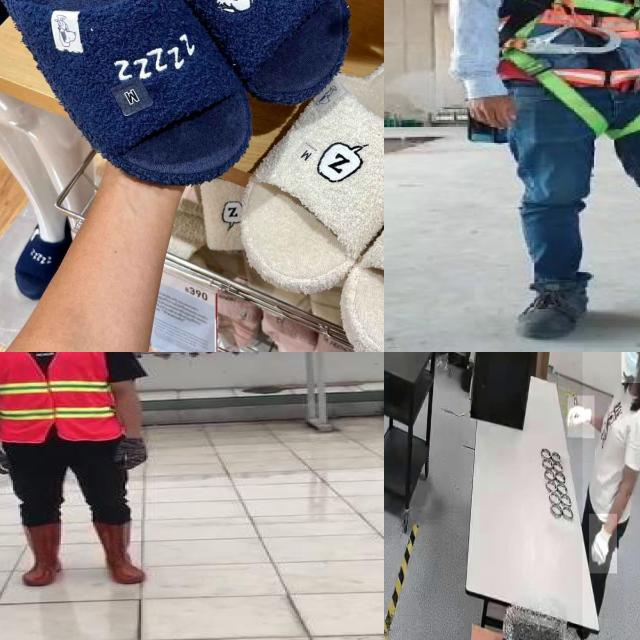Sandals: (0, 0, 374, 208), (213, 0, 384, 352)
boots: (91, 522, 148, 586), (16, 523, 70, 585)
face_mask: (621, 352, 640, 383)
hand_glove: (589, 514, 617, 574), (114, 439, 150, 470), (568, 396, 594, 438), (0, 448, 13, 476)
hand_noglove: (459, 86, 522, 134)
person: (441, 0, 640, 351), (0, 352, 167, 588), (582, 352, 640, 640)
shoes: (509, 267, 605, 345), (562, 623, 591, 640)
vest: (456, 0, 640, 92), (0, 352, 119, 443)
